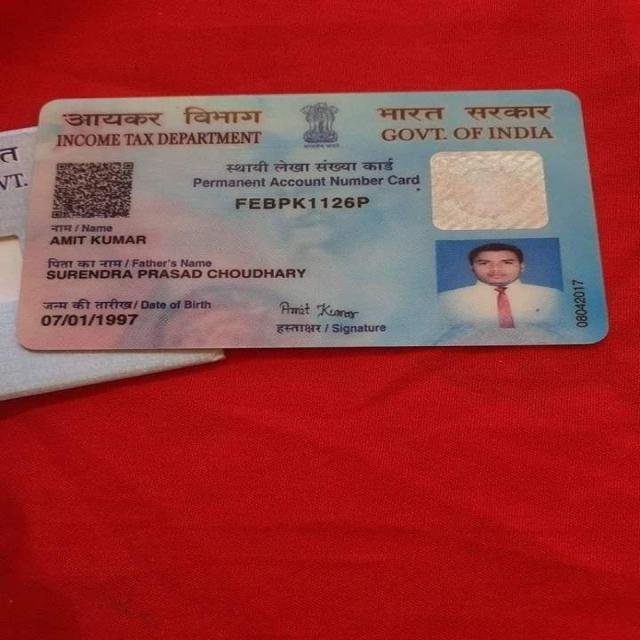pan_card: (19, 91, 606, 350)
